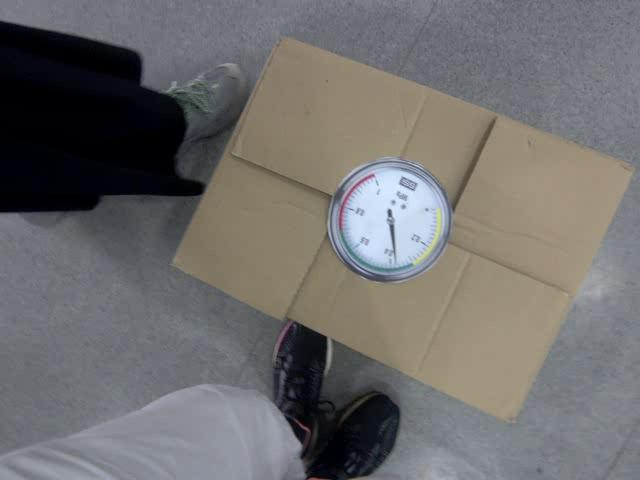Dashboard: (327, 158, 451, 285)
ssi: (396, 172, 418, 192)
